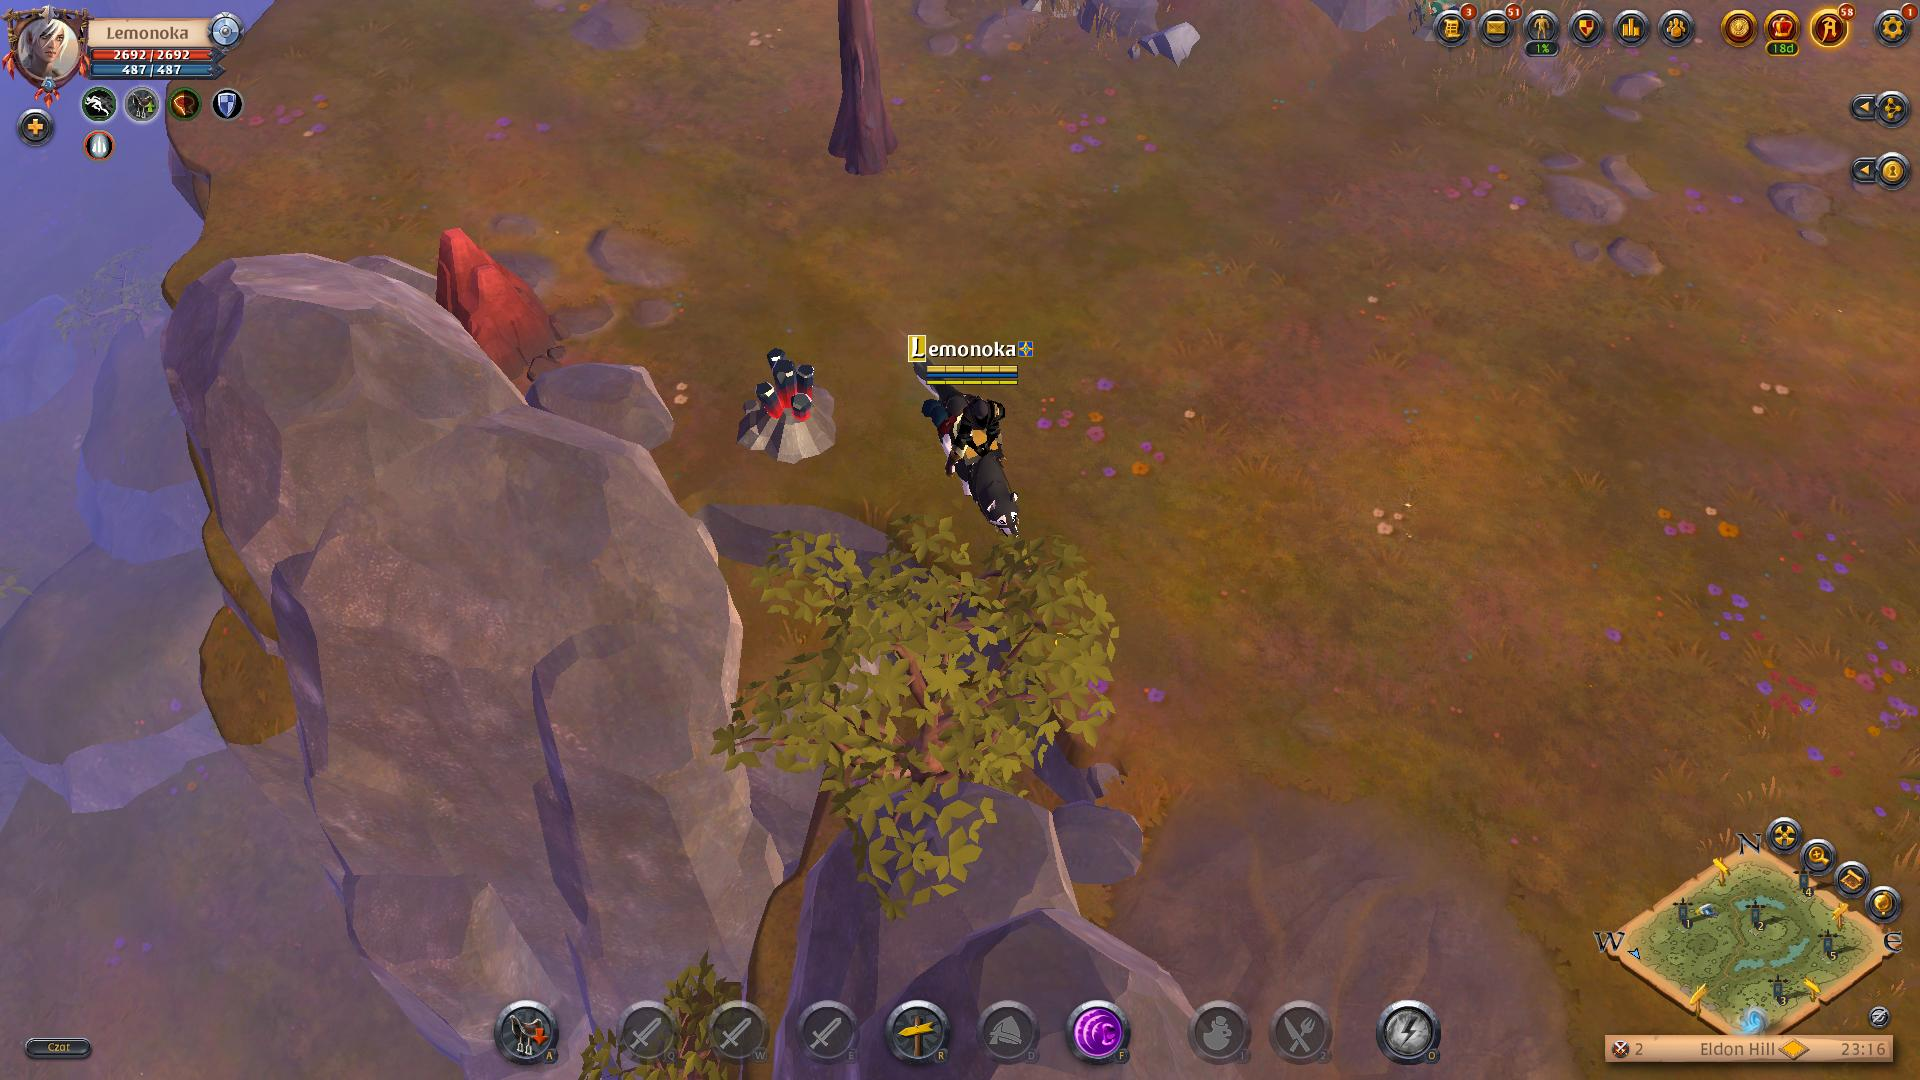ore tier 5: (733, 345, 844, 467)
rock tier 5: (430, 223, 572, 386)
